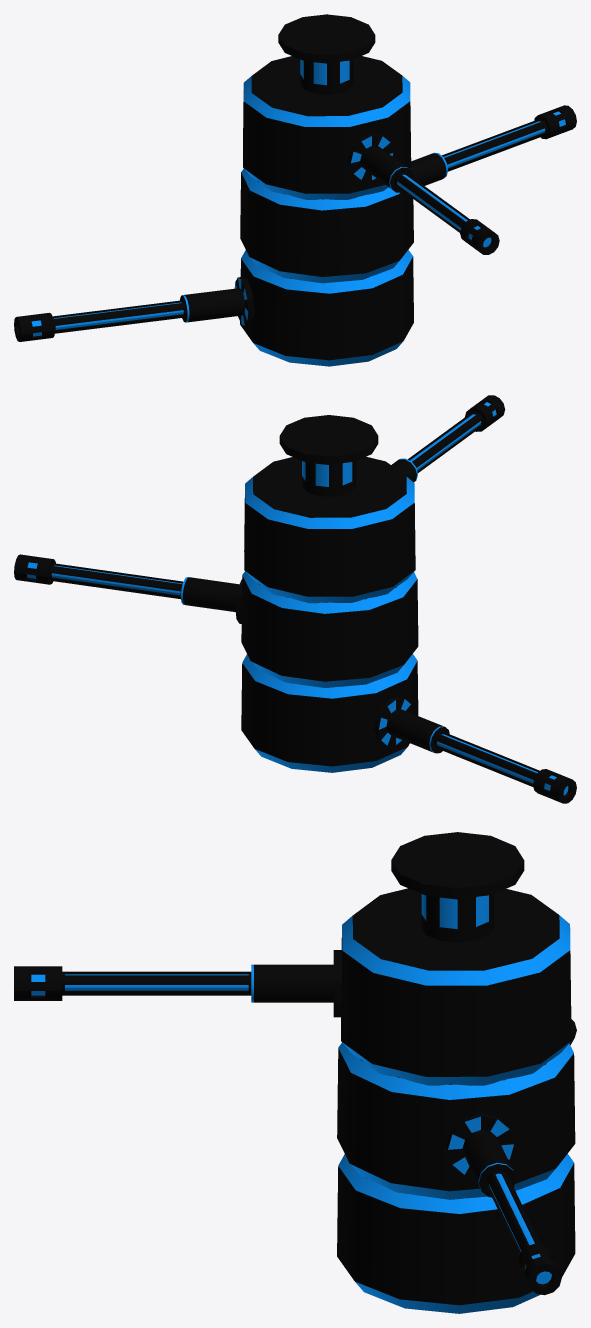
Rendered from Rotating rods.FBX.
3 views of the same model, one above another, from view 1: azimuth 30°, elevation 25°; view 2: azimuth 150°, elevation 25°; view 3: azimuth 270°, elevation 25° (orthographic). The views are drawn at different scales.
Parts seen in each view (by area): view 1: rotating rods; view 2: rotating rods; view 3: rotating rods.
Part boxes in pixels (<box>): rotating rods: <box>14,14,576,366</box>; rotating rods: <box>14,395,576,803</box>; rotating rods: <box>14,832,576,1313</box>.
Bounding box in the file's own units: 344 × 178 × 223.
